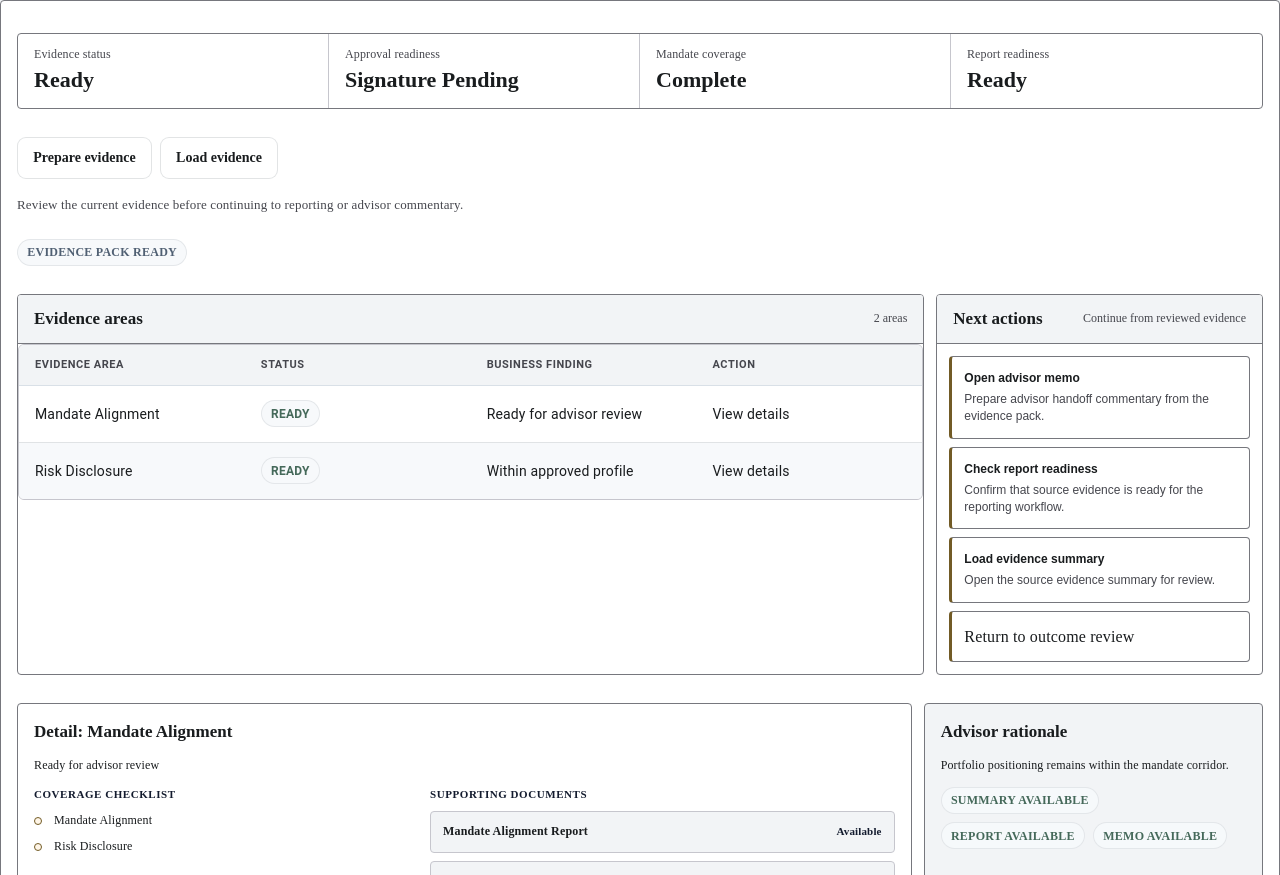
Test: ProofPackPanel › loads evidence detail and handoff payloads
Click the button "Load evidence" at (219, 158), box [160,137,278,179]
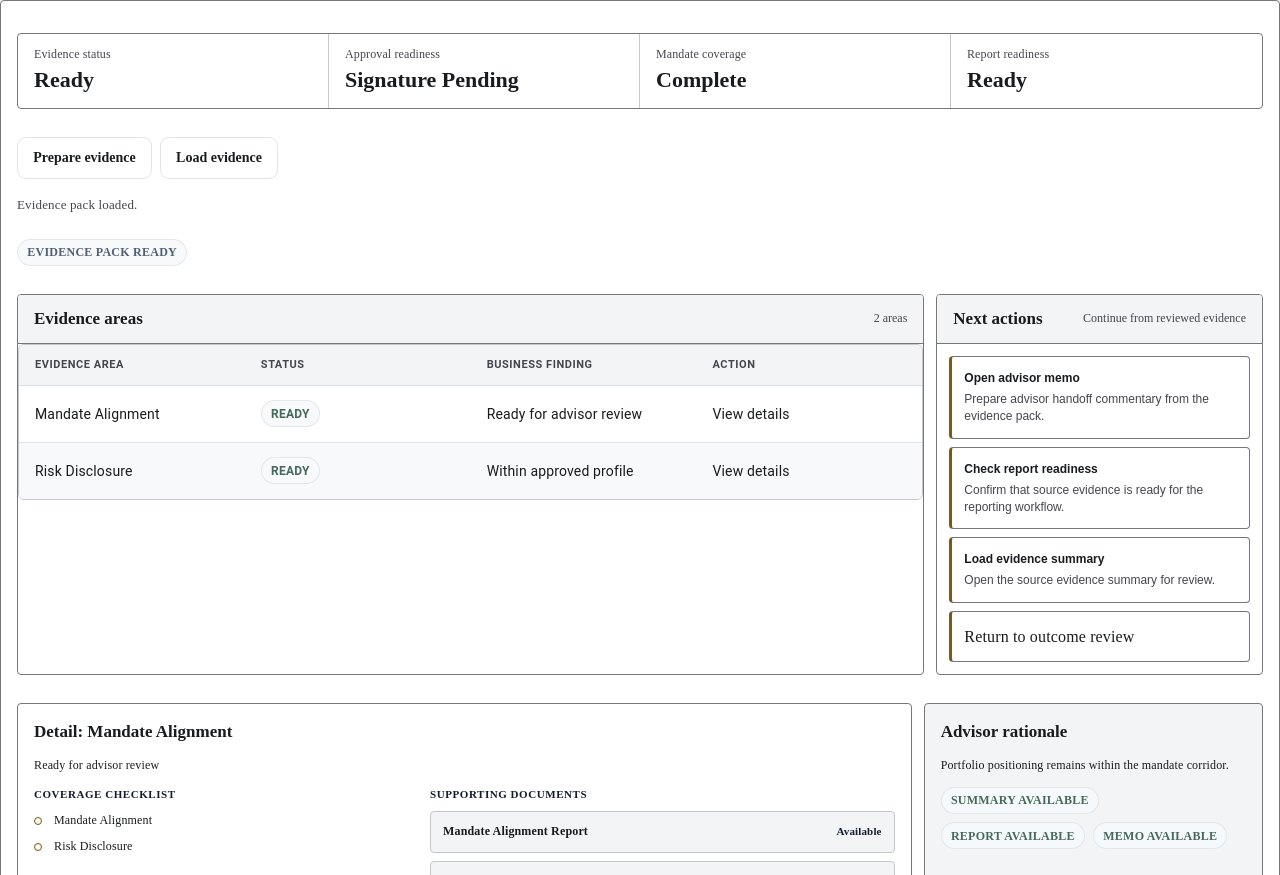
Click the button "Load evidence summary" at (1034, 559), box [949,537,1250,603]
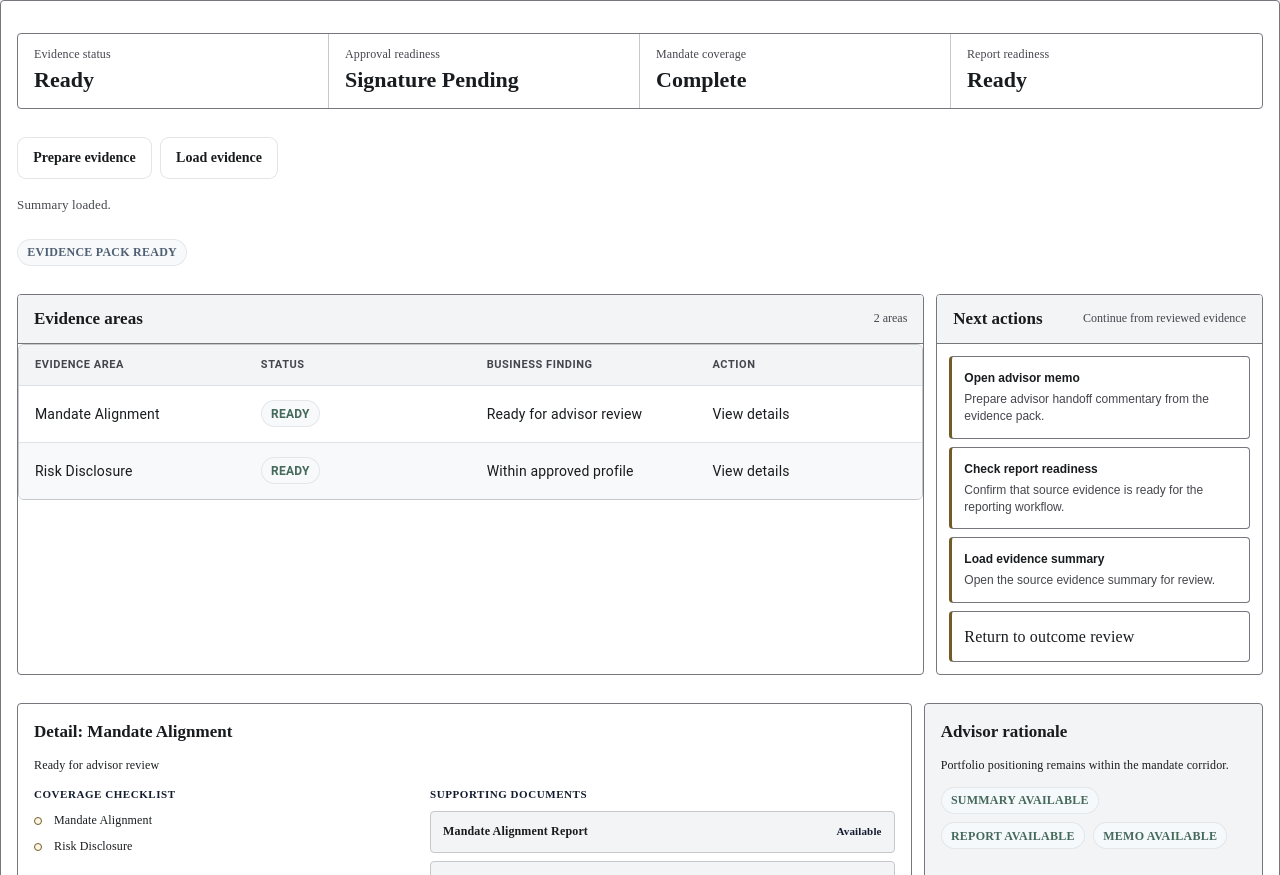
Click the button "Check report readiness" at (1100, 488), box [949,447,1250,529]
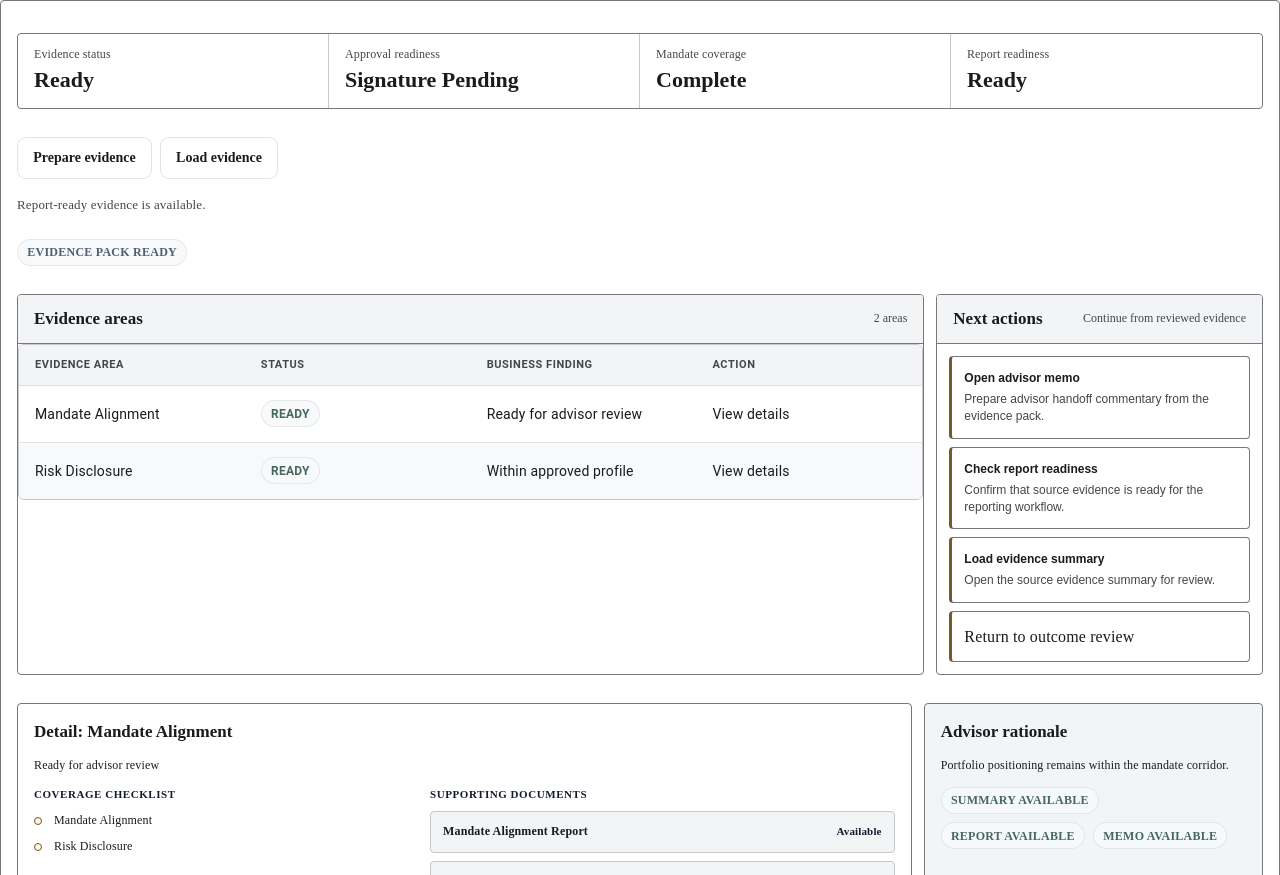
Click the button "Open advisor memo" at (1100, 397), box [949,356,1250,439]
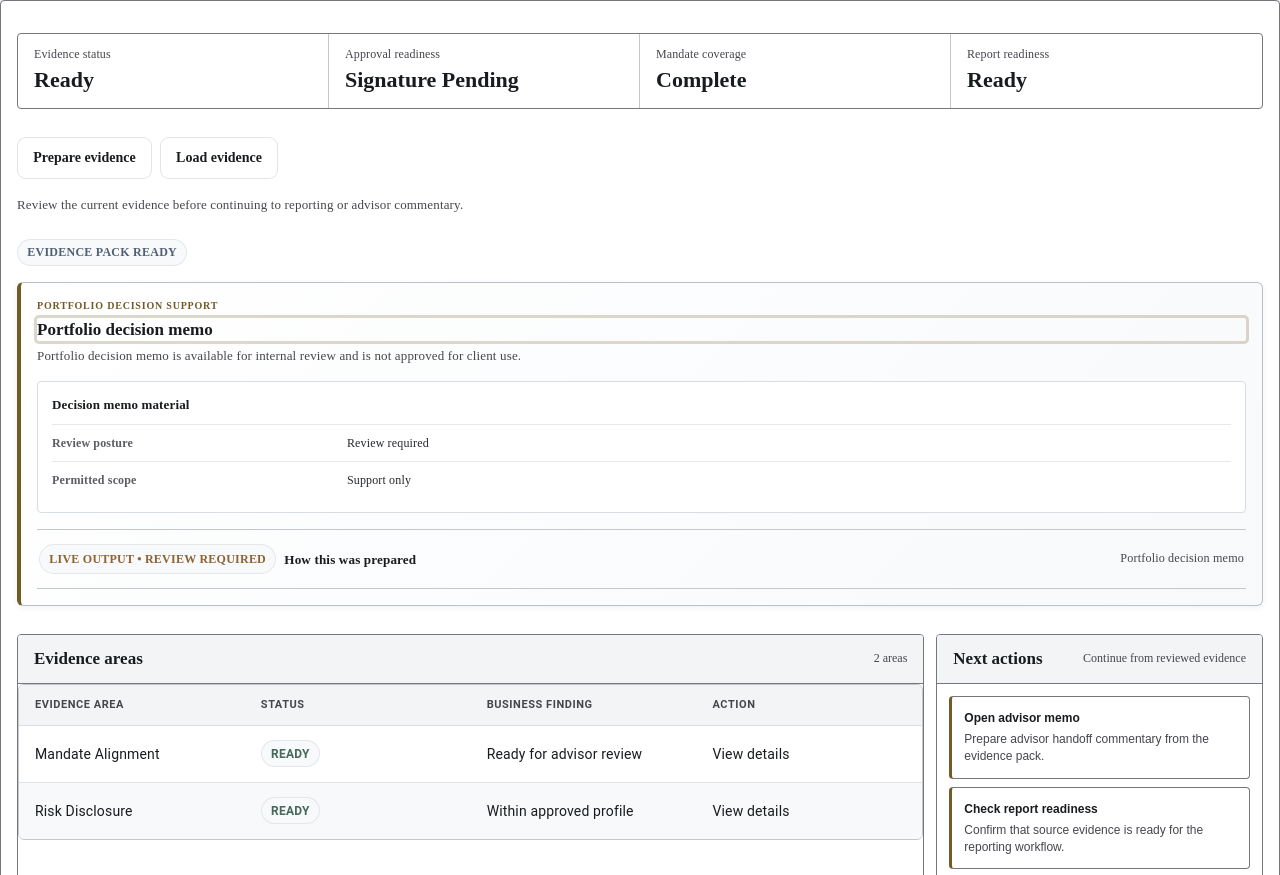
Check: the text named "Status Live output • review required" is shown, box [39,544,276,574]
